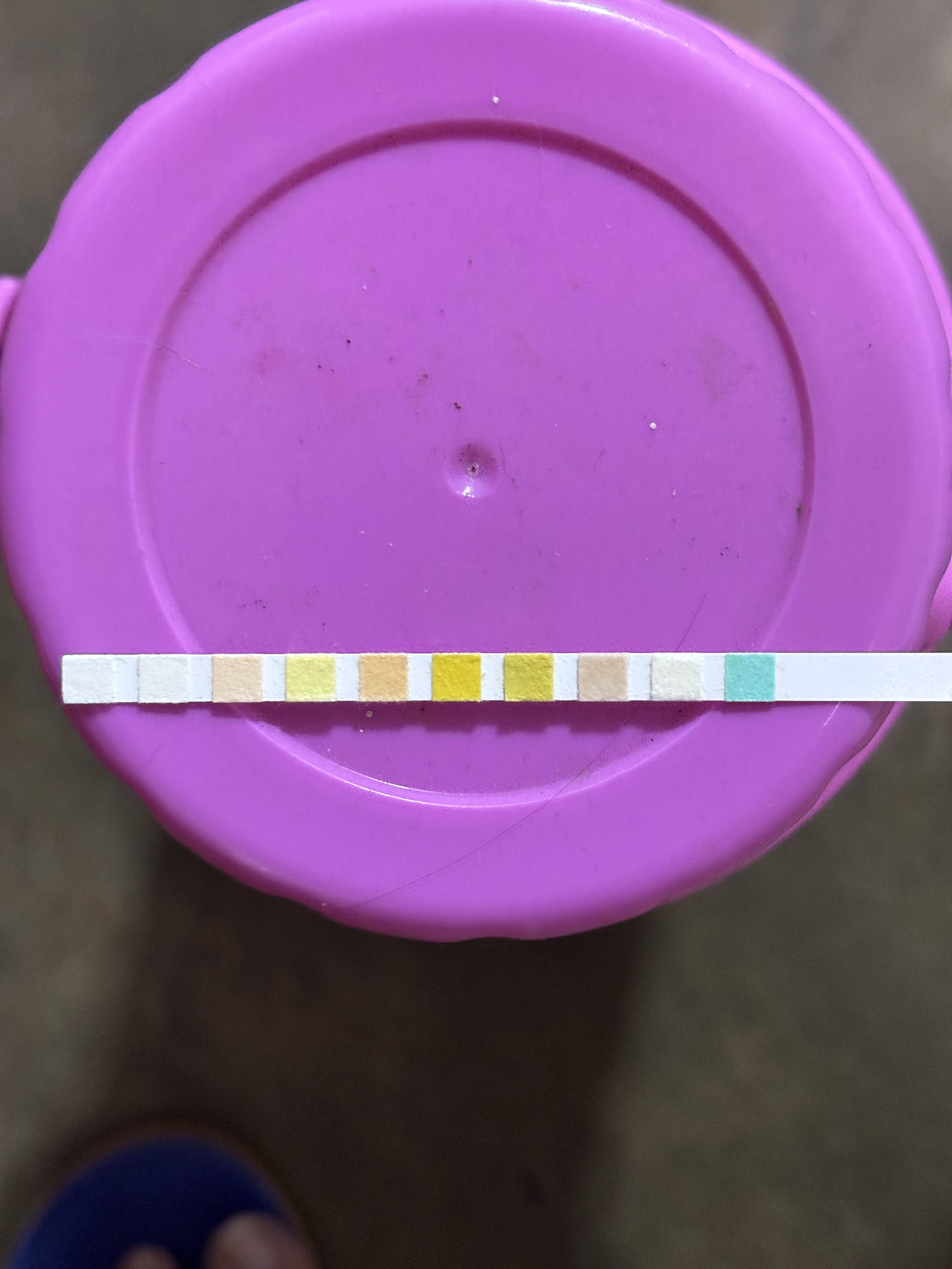Bilirubin: (654, 658, 699, 700)
Blood: (432, 656, 479, 700)
Glucose: (727, 655, 774, 700)
Ketone: (580, 657, 626, 700)
Leukocytes: (64, 658, 112, 702)
Nitrite: (142, 658, 186, 701)
Protein: (288, 657, 335, 700)
SpGravity: (506, 656, 552, 700)
Urobilinogen: (215, 658, 263, 700)
pH: (363, 658, 405, 700)
strip: (62, 653, 950, 704)
